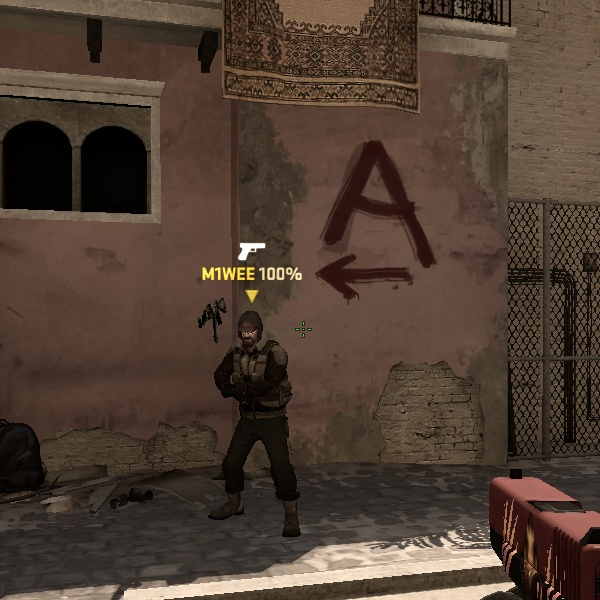t_body: (187, 303, 314, 534)
t_head: (224, 307, 271, 359)
